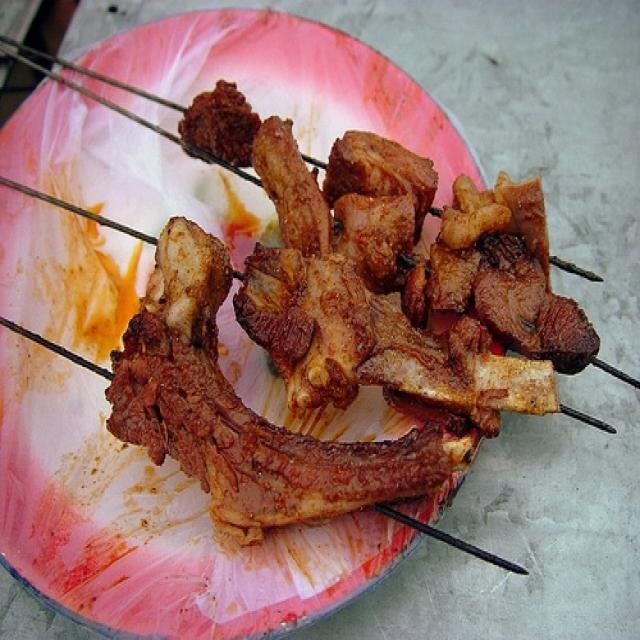烧串烤肉: (32, 21, 599, 621)
